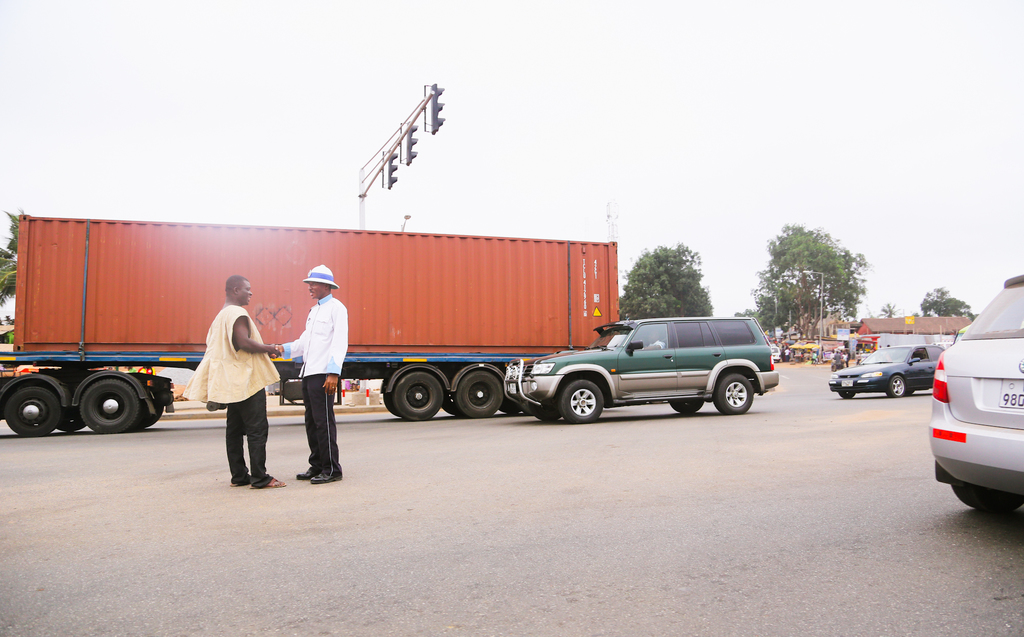Car: (500, 316, 776, 425), (929, 276, 1023, 507), (830, 344, 946, 400)
